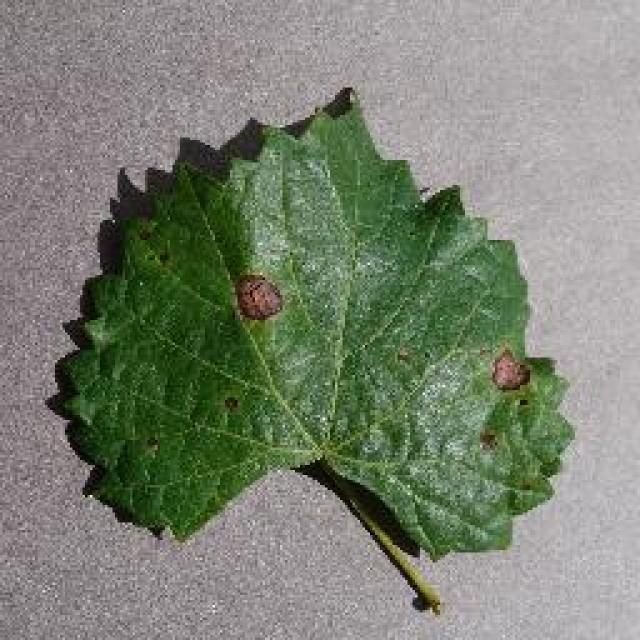Grape___Black_rot: (50, 84, 584, 570)
